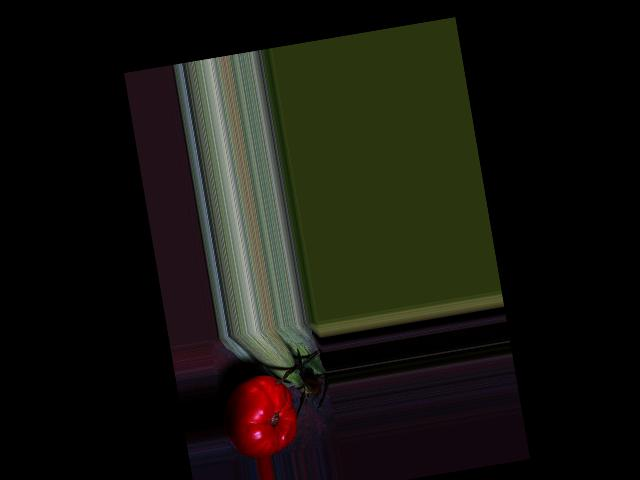tomato: (216, 370, 302, 462)
